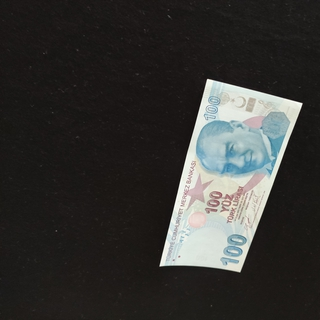100TLFront: (159, 77, 302, 273)
